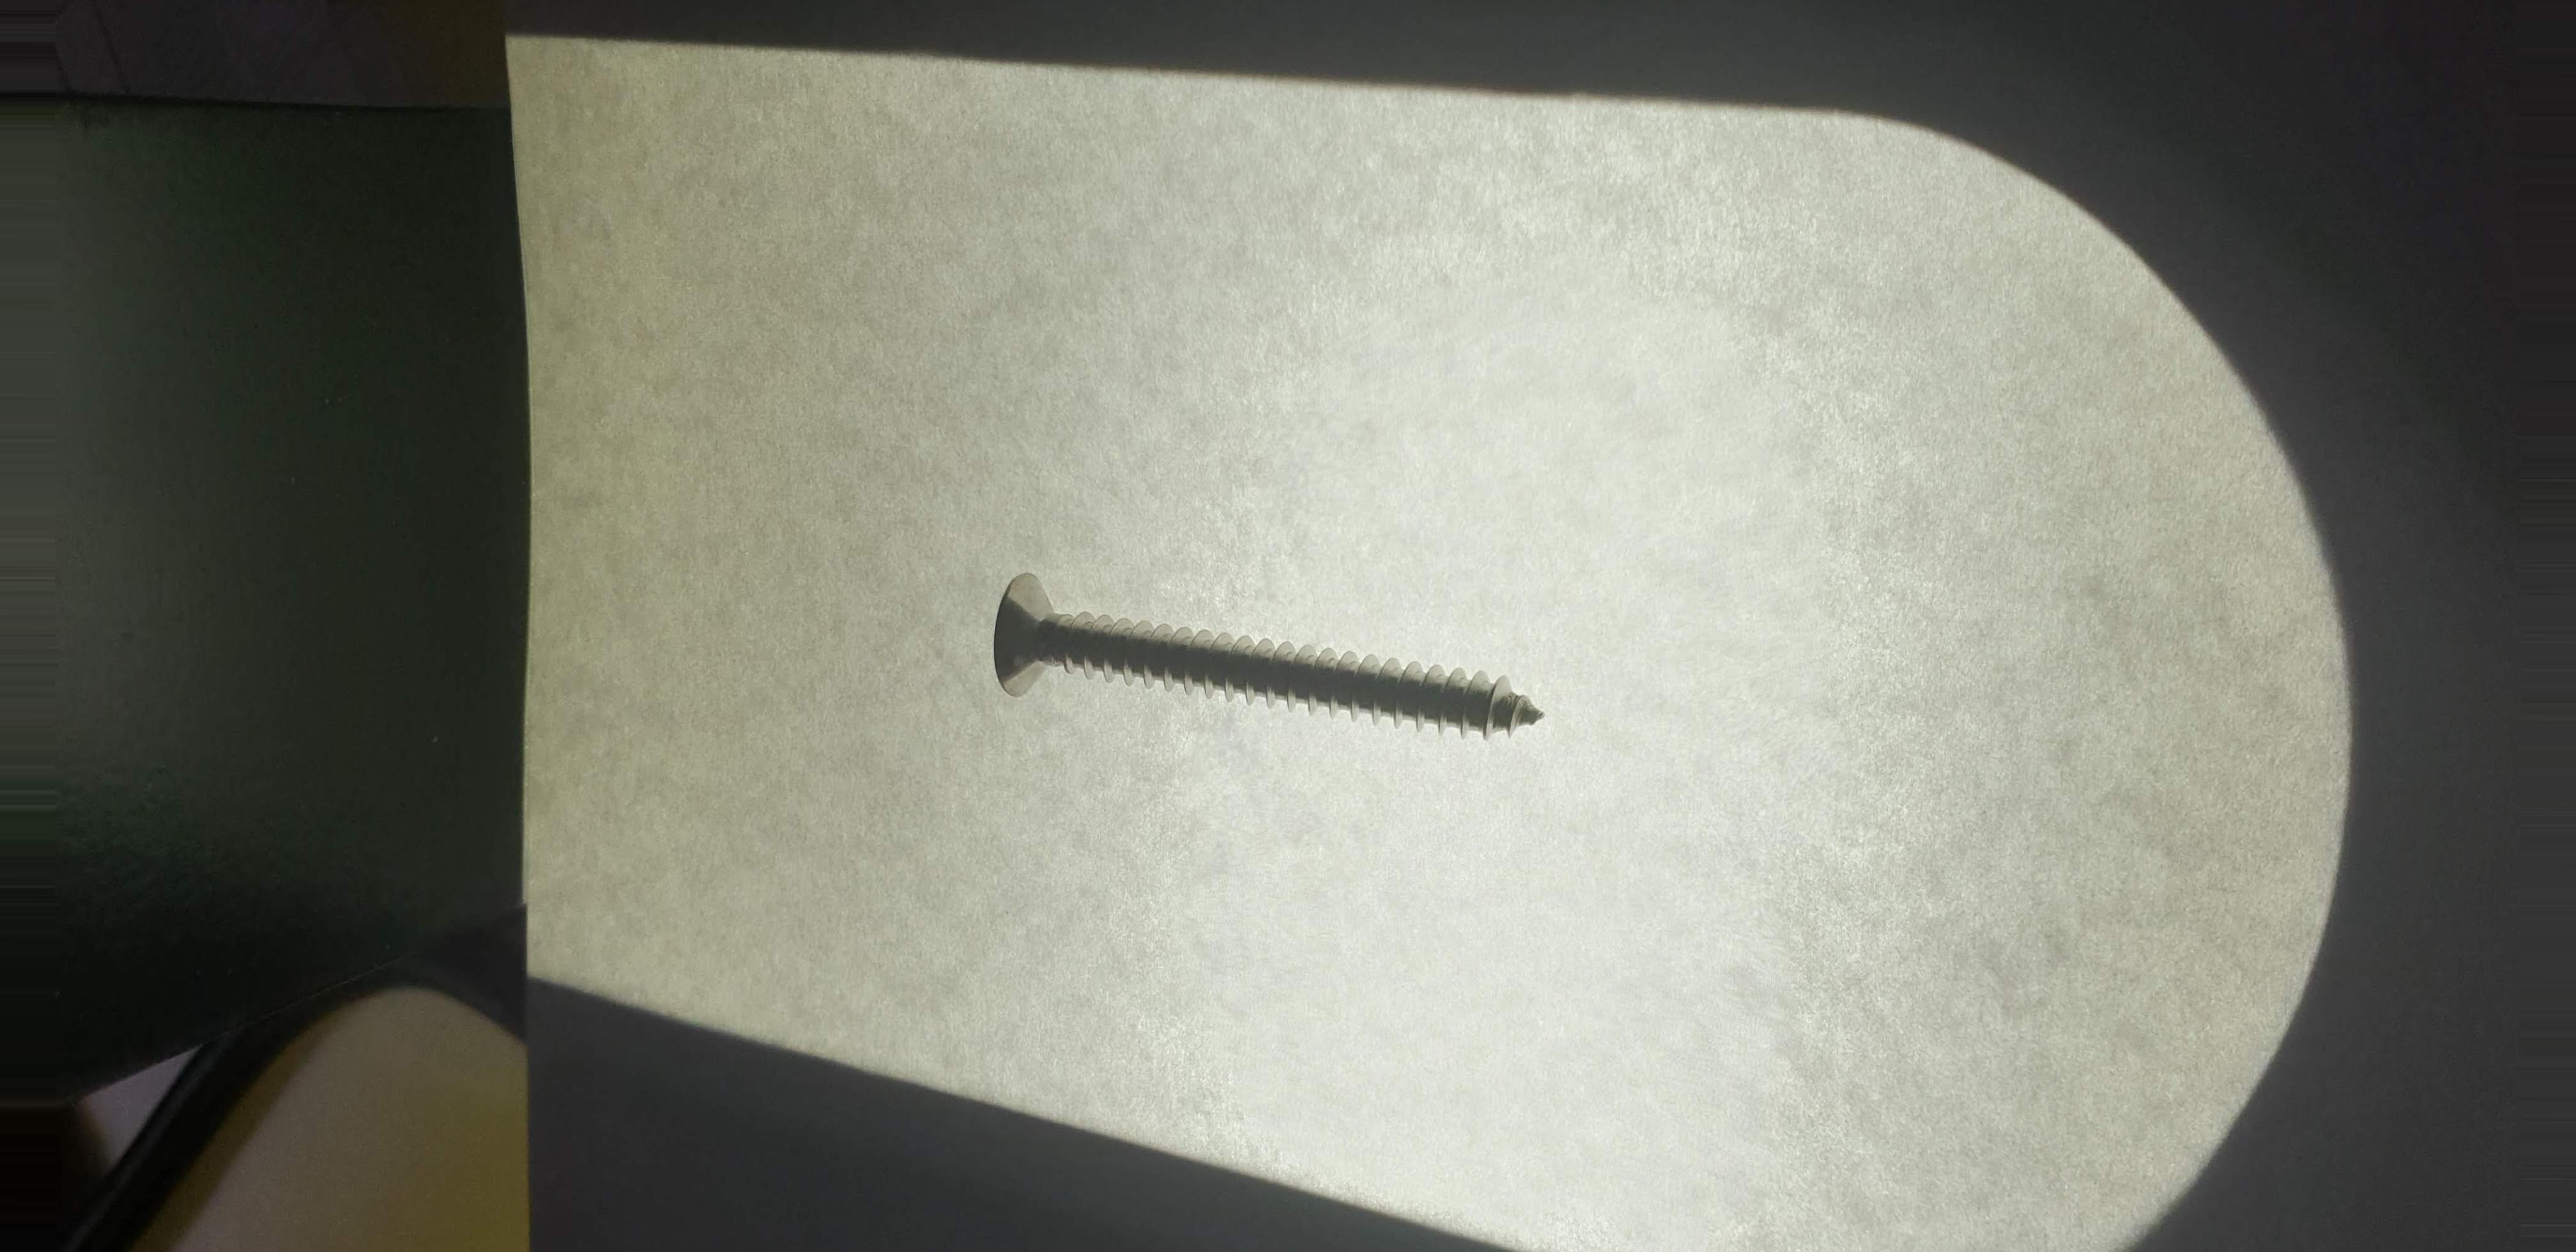S001: (964, 521, 1585, 784)
